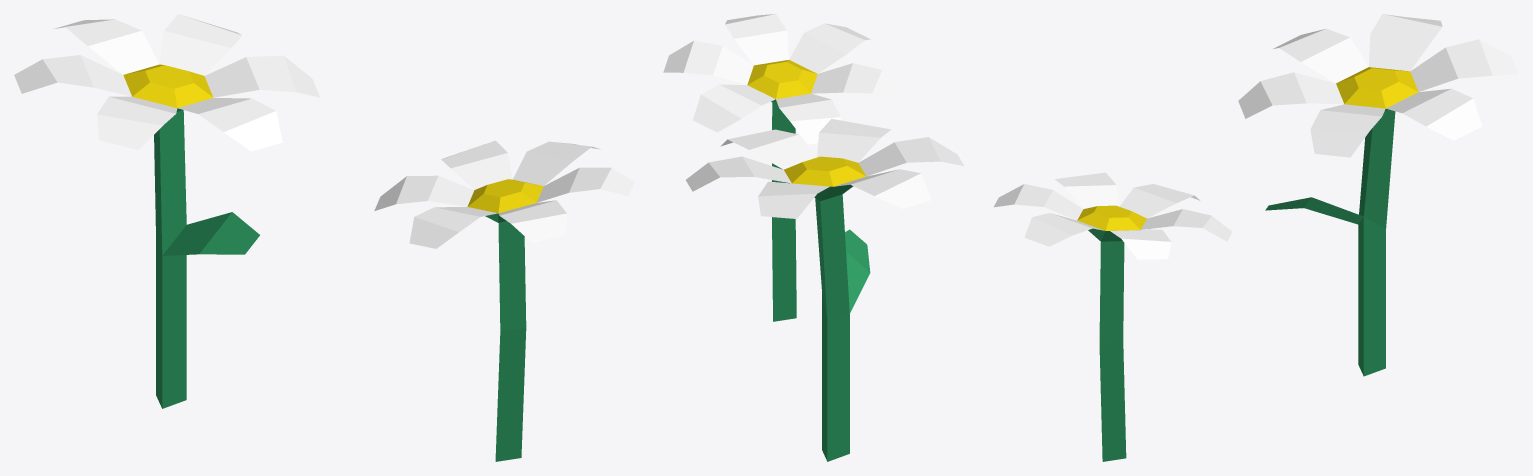
Rendered from Flowers.glb.
The picture shows the model from 3 angles, left to right: view 1: azimuth 30°, elevation 25°; view 2: azimuth 150°, elevation 25°; view 3: azimuth 270°, elevation 25°; orthographic projection. The views are drawn at different scales.
Parts seen in each view (by area): view 1: Circle.006_Circle.007, Circle.001; view 2: Circle.006_Circle.007, Circle.001; view 3: Circle.006_Circle.007, Circle.001.
Boxes of the visible parts, left/top/right/bottom form: Circle.006_Circle.007: left=14, top=14, right=319, bottom=408; Circle.001: left=374, top=140, right=634, bottom=461; Circle.006_Circle.007: left=686, top=119, right=964, bottom=461; Circle.001: left=663, top=14, right=901, bottom=321; Circle.006_Circle.007: left=1238, top=14, right=1518, bottom=376; Circle.001: left=994, top=172, right=1232, bottom=461.
Bounding box in the file's own units: 2.09 × 1.57 × 2.41.
1 material, 1 textured.
